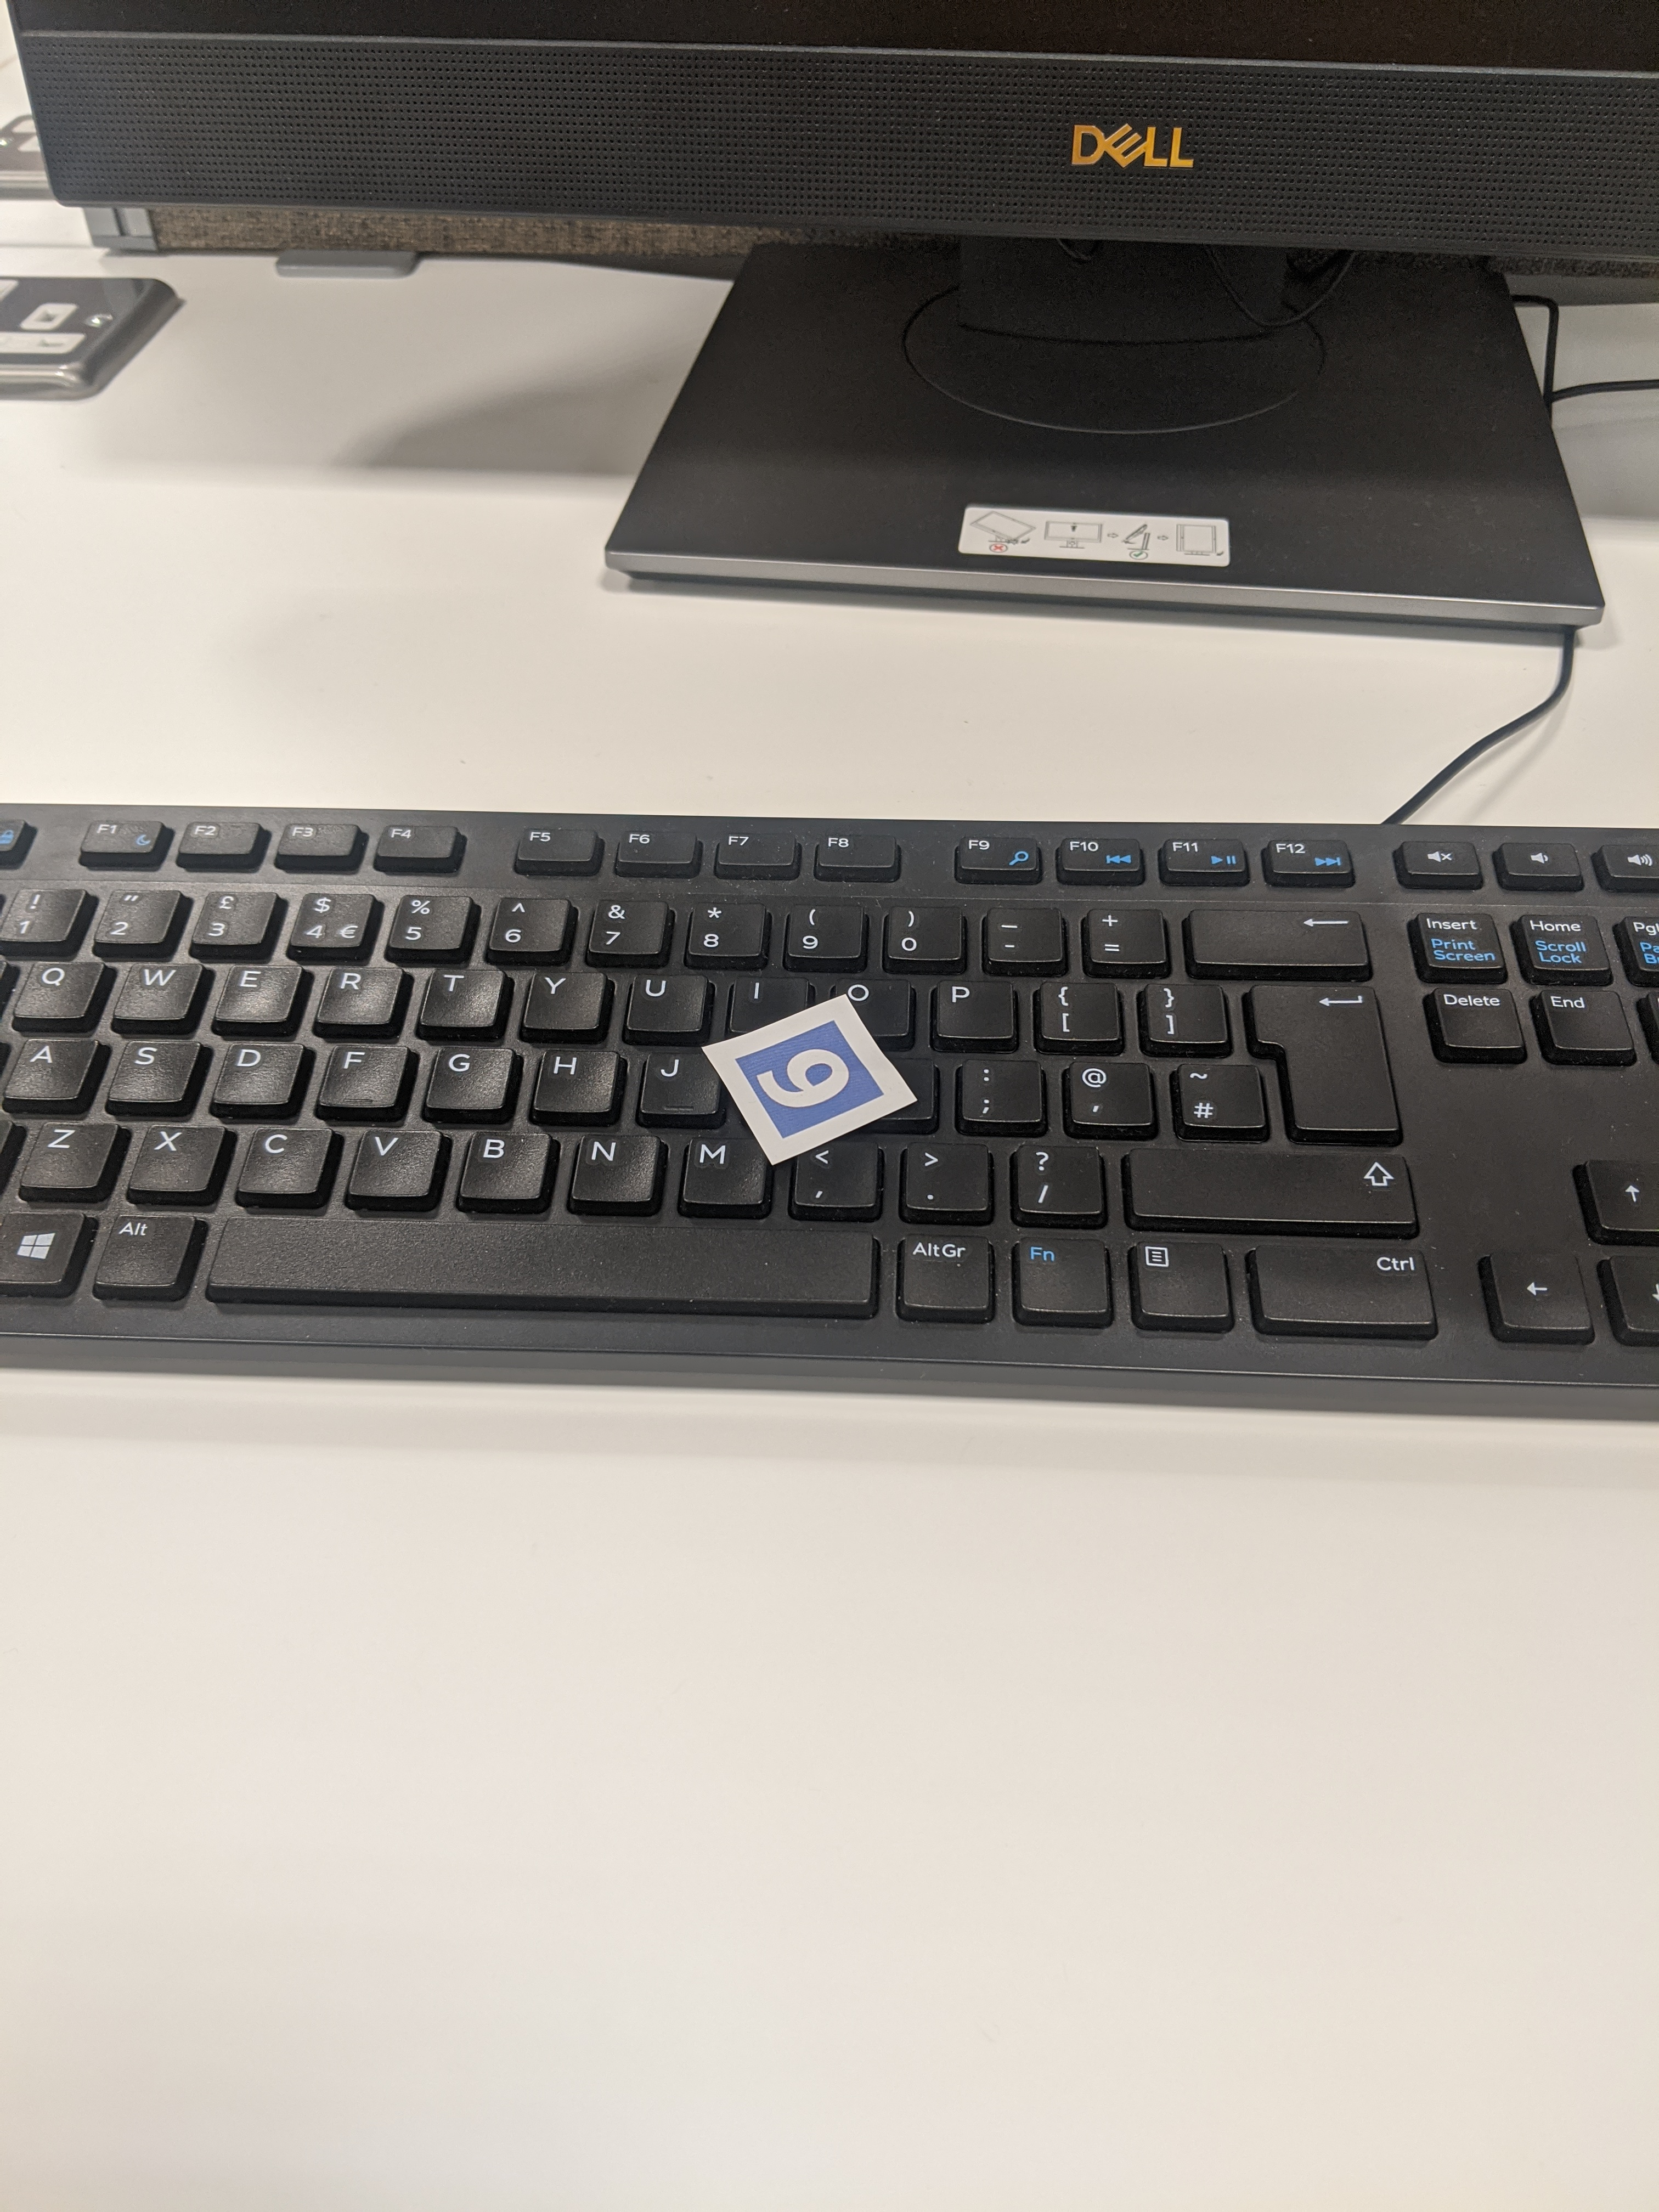marker: (702, 986, 911, 1202)
